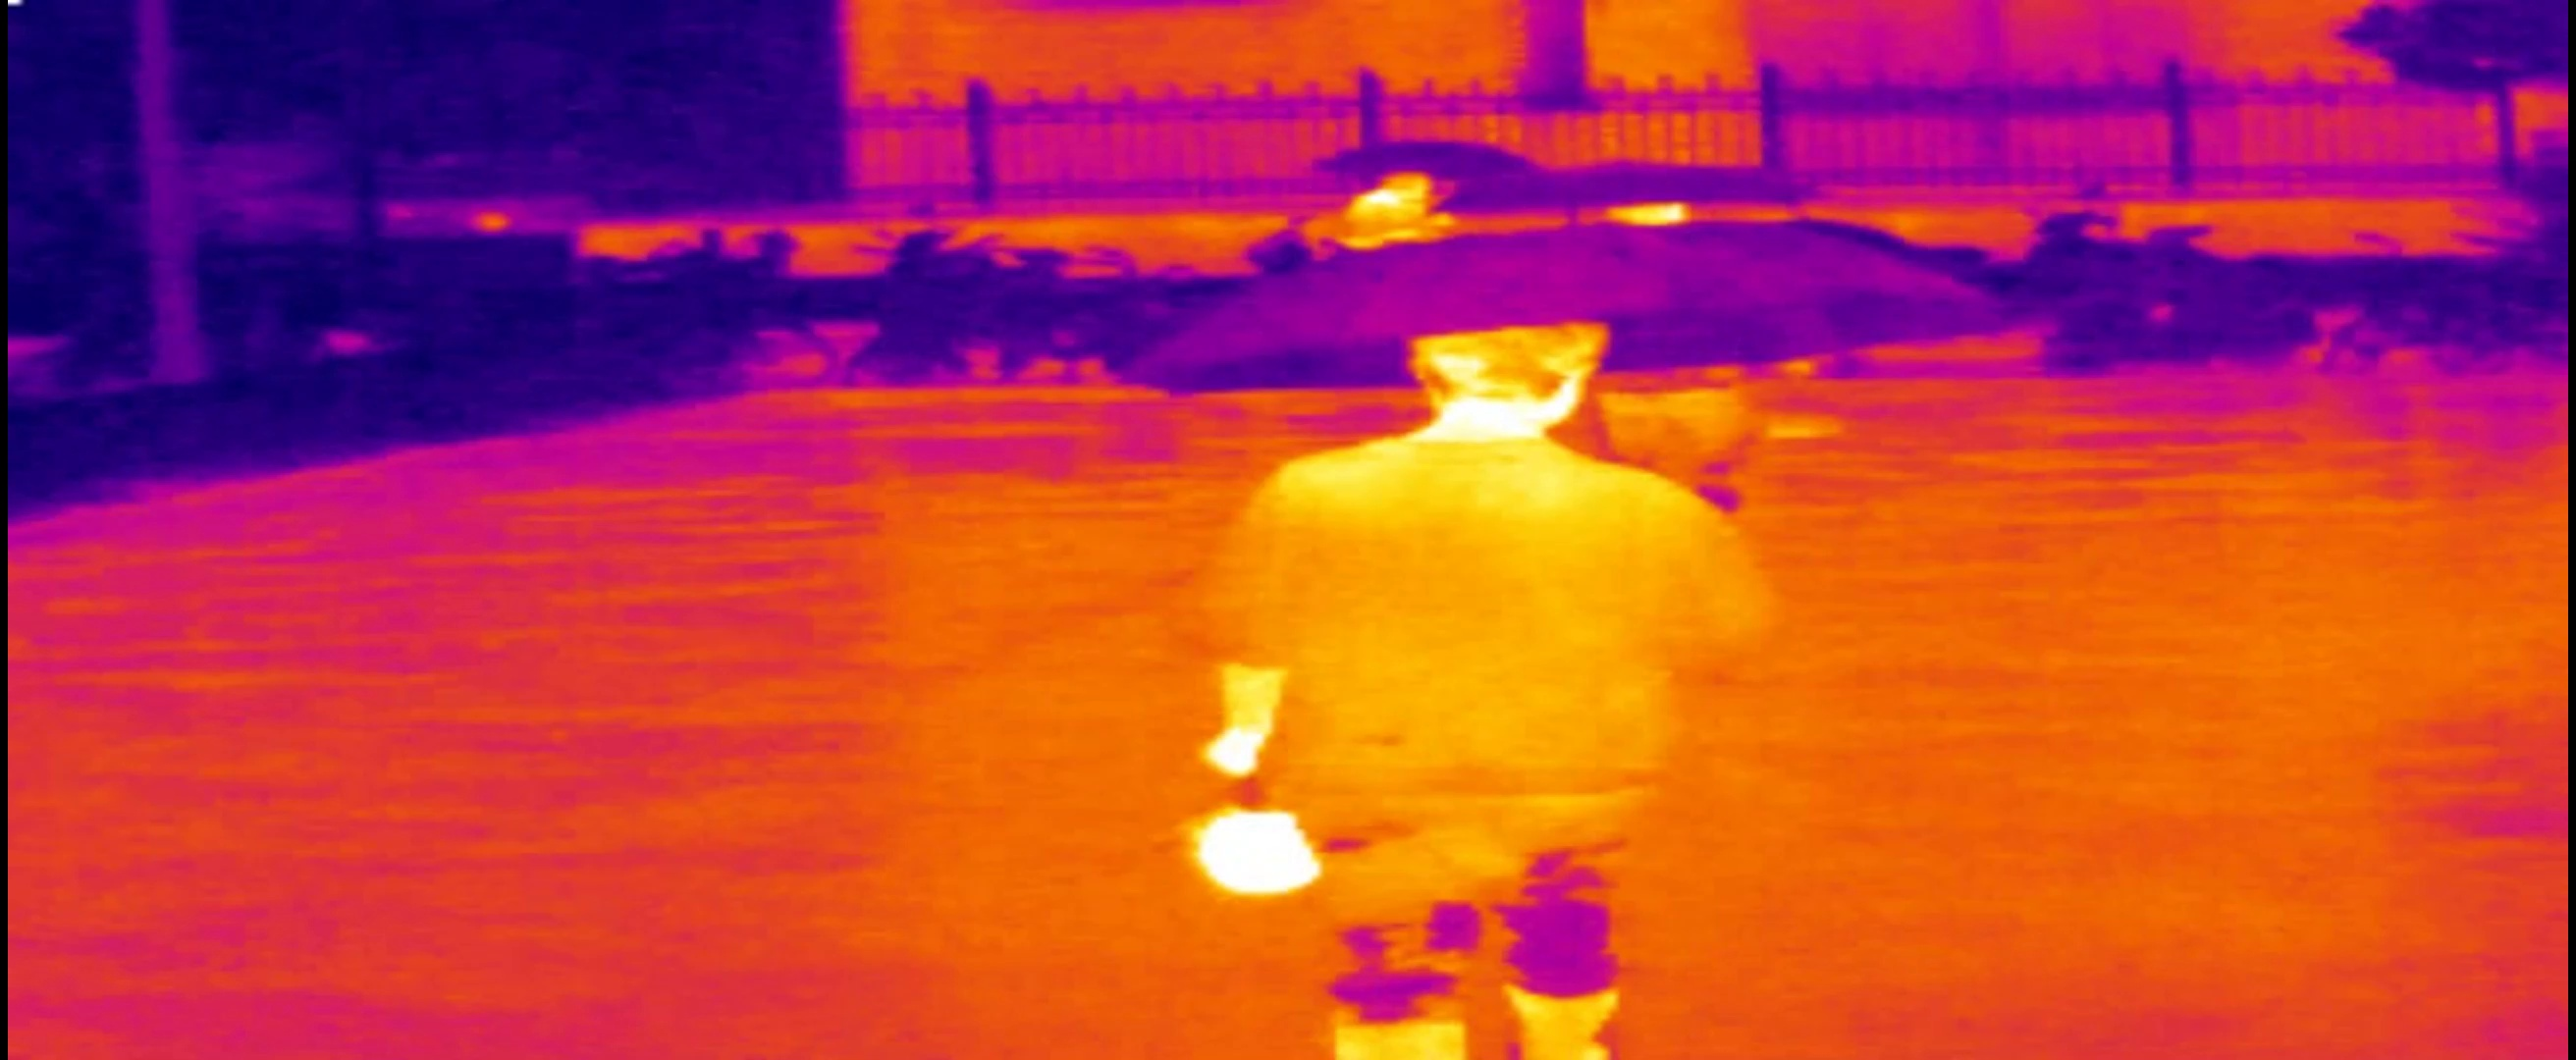person: (1233, 316, 1749, 1060), (1608, 201, 1749, 493), (1348, 172, 1446, 248)
